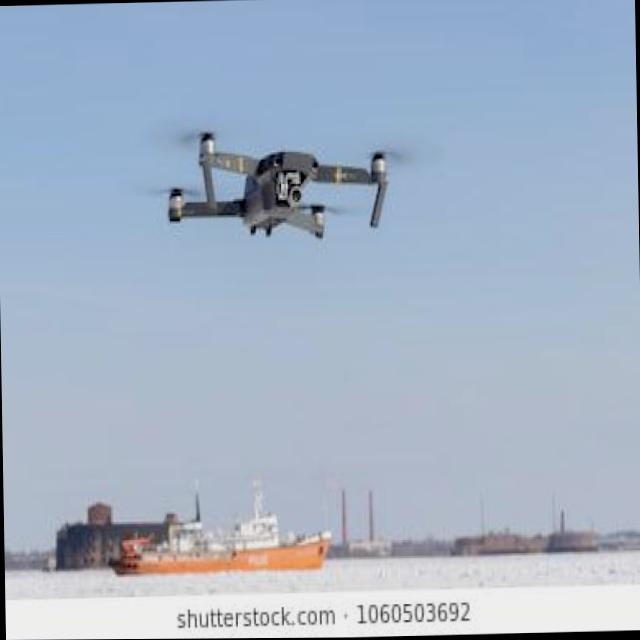drone: (140, 93, 406, 285)
